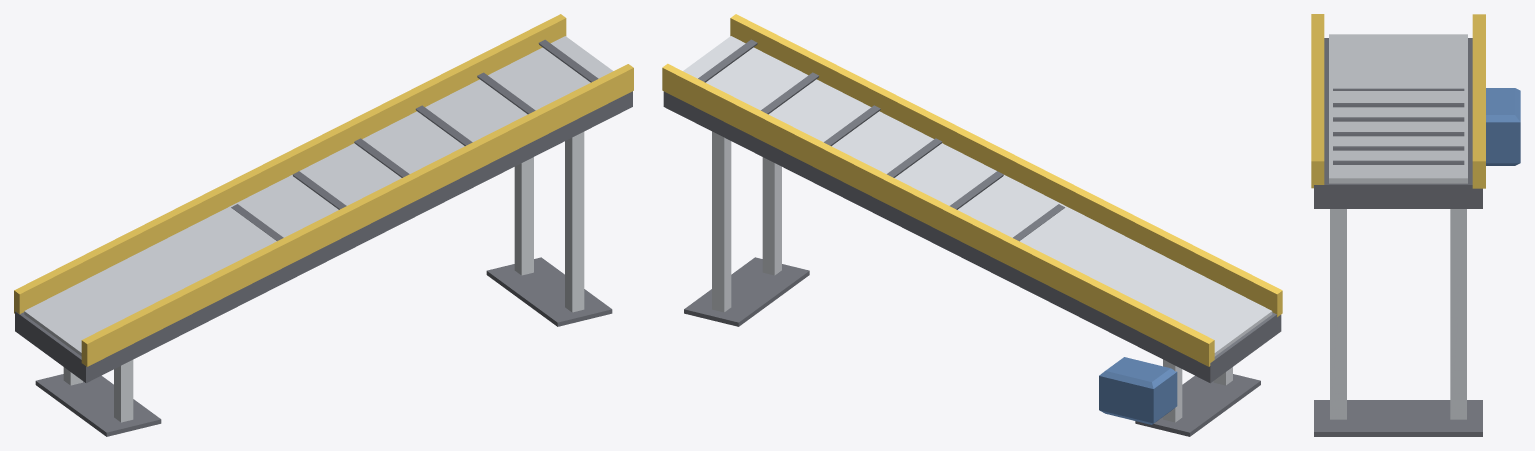
Rendered from airport-terminal-and-ground-operations-baggage-belt-in-d209d770__26056.glb.
3 renders of one model, left to right at view 1: azimuth 30°, elevation 25°; view 2: azimuth 150°, elevation 25°; view 3: azimuth 270°, elevation 25°, orthographic. The views are drawn at different scales.
Visible parts, largest first — view 1: baggage-belt-incline; view 2: baggage-belt-incline; view 3: baggage-belt-incline.
Part boxes in pixels (box(x1,y1,x2,y2)): baggage-belt-incline: box(14, 14, 633, 436); baggage-belt-incline: box(662, 14, 1282, 436); baggage-belt-incline: box(1311, 14, 1520, 436).
Bounding box in the file's own units: 4 × 1.69 × 1.11.
